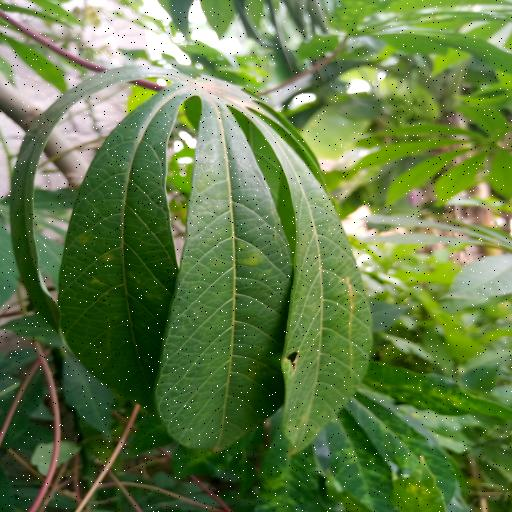Cassava_Bacterial_Disease: (8, 64, 376, 460)
